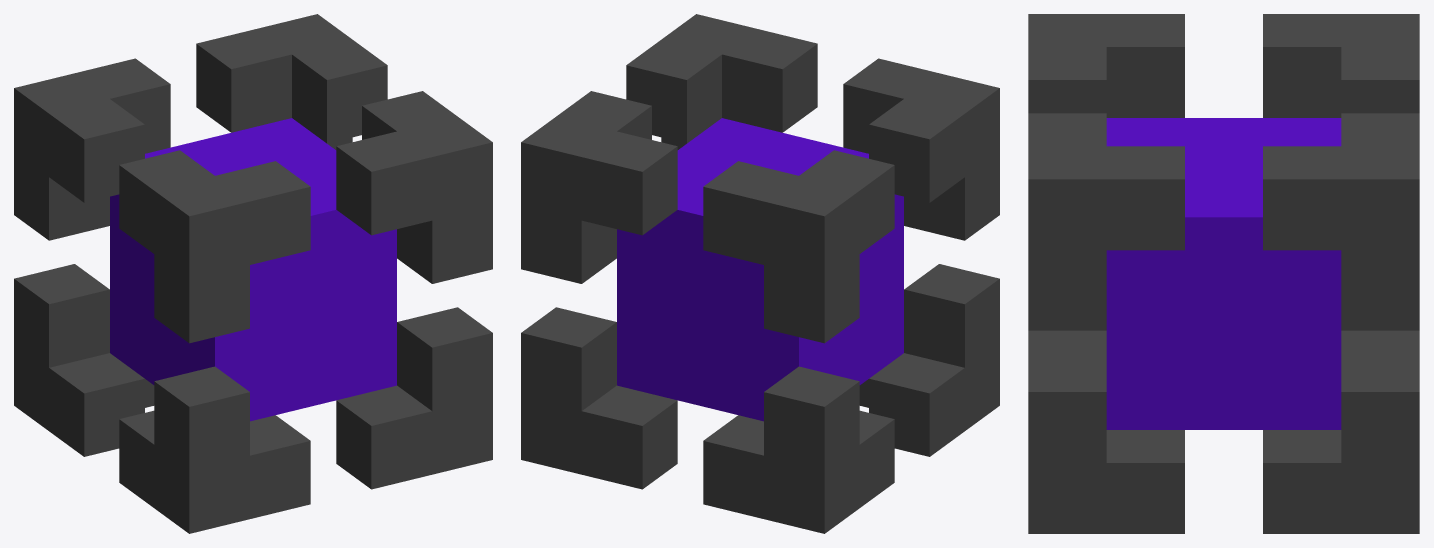
File: Totem_Chave.fbx
The picture shows the model from 3 angles, left to right: view 1: azimuth 30°, elevation 25°; view 2: azimuth 150°, elevation 25°; view 3: azimuth 270°, elevation 25°; orthographic projection. The views are drawn at different scales.
Visible parts, largest first — view 1: Mesh; view 2: Mesh; view 3: Mesh.
Part boxes in pixels (x1=…): Mesh: x1=14, y1=14, x2=492, y2=533; Mesh: x1=521, y1=14, x2=999, y2=533; Mesh: x1=1028, y1=14, x2=1419, y2=533.
Bounding box in the file's own units: 12.5 × 12.5 × 12.5.
Materials: 1 (1 with a texture image).
